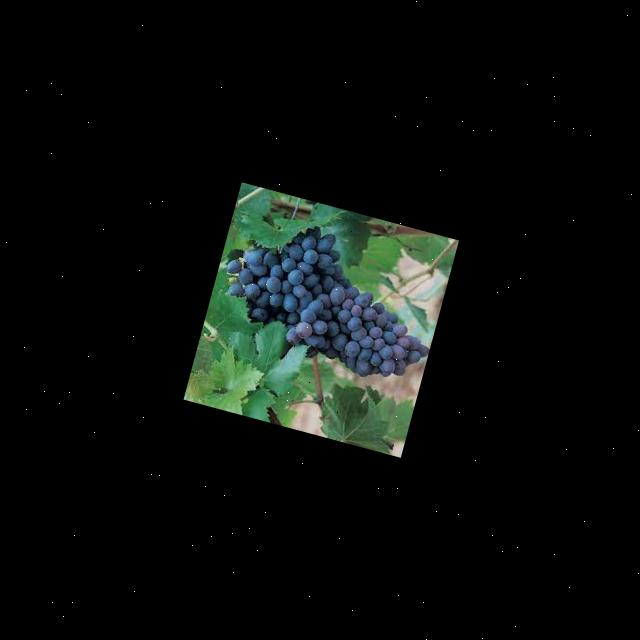grape: (205, 205, 451, 392)
